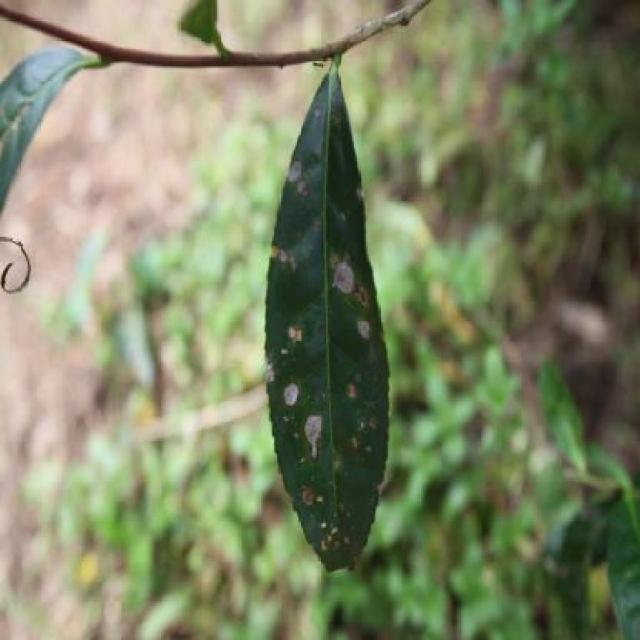Leaf rust of tea: (258, 43, 400, 583)
